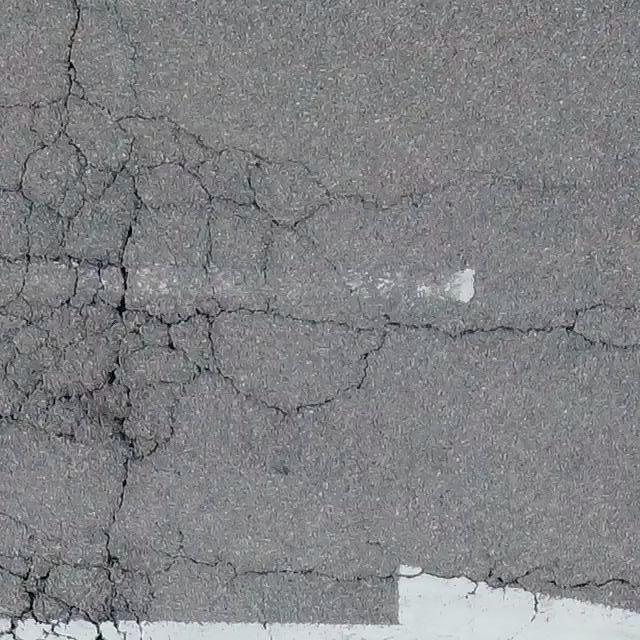GRIETA: (191, 557, 521, 590), (404, 322, 631, 348), (103, 463, 130, 543), (573, 303, 639, 327), (546, 578, 639, 593), (66, 0, 80, 63), (520, 583, 538, 623)
PIEL DE COCODRILO: (0, 59, 409, 464), (0, 509, 194, 639)
